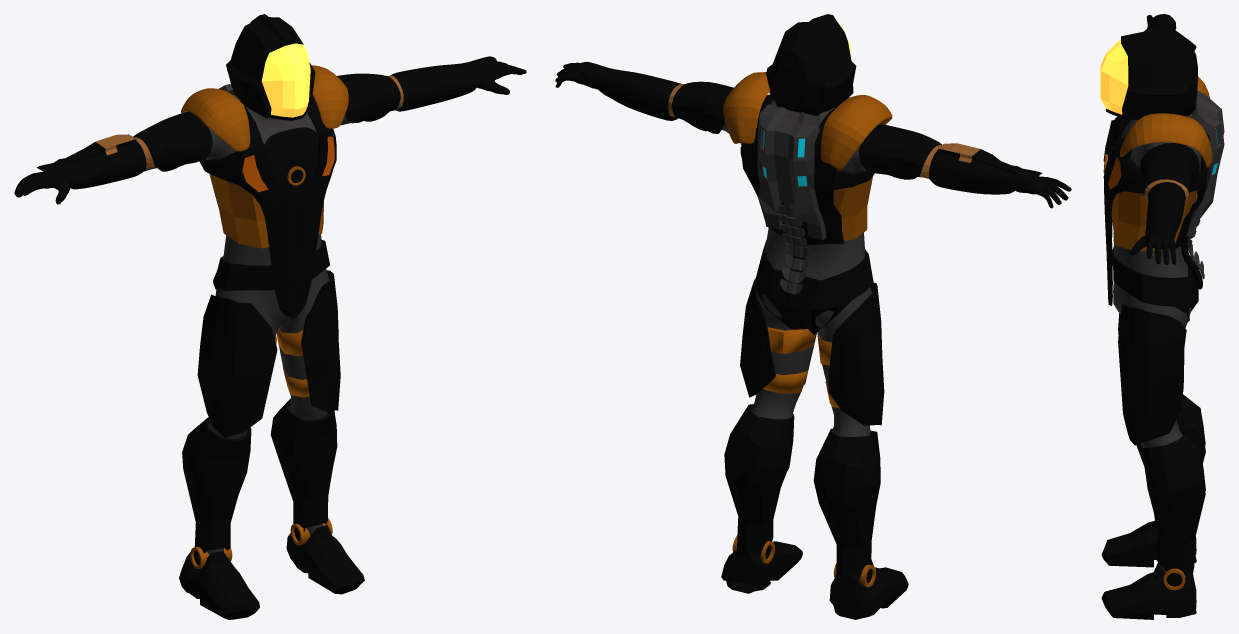
Rendered from Warrior.fbx.
The picture shows the model from 3 angles, left to right: view 1: azimuth 30°, elevation 25°; view 2: azimuth 150°, elevation 25°; view 3: azimuth 270°, elevation 25°; orthographic projection. The views are drawn at different scales.
Visible parts, largest first — view 1: Kostka.029, Kostka.025, Kostka.030, Prostokąt.033, Body_low.001, Prostokąt.030, Prostokąt.008, Kostka.028, Prostokąt.005, Prostokąt.032, Prostokąt.027, Prostokąt.004 (+4 smaller); view 2: Kostka.029, Body_low.001, Prostokąt.033, Kostka.024, Prostokąt.030, Kostka.030, Prostokąt.008, Prostokąt.027, Kostka.025, Prostokąt.032, Kostka.028, Prostokąt.004 (+4 smaller); view 3: Kostka.029, Kostka.028, Prostokąt.033, Prostokąt.008, Body_low.001, Kostka.025, Prostokąt.027, Prostokąt.004, Prostokąt.005, Kostka.024, Body_low.002, Prostokąt.026 (+2 smaller).
Boxes of the visible parts, <box> form: Kostka.029: <box>179,398,364,619</box>; Kostka.025: <box>199,95,336,318</box>; Kostka.030: <box>197,294,277,438</box>; Prostokąt.033: <box>226,14,315,120</box>; Body_low.001: <box>73,94,400,554</box>; Prostokąt.030: <box>37,111,212,189</box>; Prostokąt.008: <box>337,56,497,123</box>; Kostka.028: <box>301,270,340,411</box>; Prostokąt.005: <box>209,173,323,248</box>; Prostokąt.032: <box>181,88,250,151</box>; Prostokąt.027: <box>213,240,329,290</box>; Prostokąt.004: <box>311,65,348,128</box>; Kostka.029: <box>721,404,908,619</box>; Body_low.001: <box>722,100,880,436</box>; Prostokąt.033: <box>766,14,856,116</box>; Kostka.024: <box>757,104,826,240</box>; Prostokąt.030: <box>859,124,1042,194</box>; Kostka.030: <box>828,282,884,425</box>; Prostokąt.008: <box>578,61,733,133</box>; Prostokąt.027: <box>755,240,873,334</box>; Kostka.025: <box>740,94,874,245</box>; Prostokąt.032: <box>820,95,892,169</box>; Kostka.028: <box>740,278,816,397</box>; Prostokąt.004: <box>723,72,770,143</box>; Kostka.029: <box>1101,394,1205,619</box>; Kostka.028: <box>1118,304,1186,445</box>; Prostokąt.033: <box>1100,30,1197,119</box>; Prostokąt.008: <box>1139,143,1199,237</box>; Body_low.001: <box>1112,113,1201,576</box>; Kostka.025: <box>1103,116,1208,305</box>; Prostokąt.027: <box>1112,246,1198,321</box>; Prostokąt.004: <box>1120,113,1212,168</box>; Prostokąt.005: <box>1111,190,1197,251</box>; Kostka.024: <box>1186,90,1224,236</box>; Body_low.002: <box>1129,232,1176,264</box>; Prostokąt.026: <box>1181,189,1203,289</box>.
Size of the model in its own units: 1801 by 1923 by 389.
